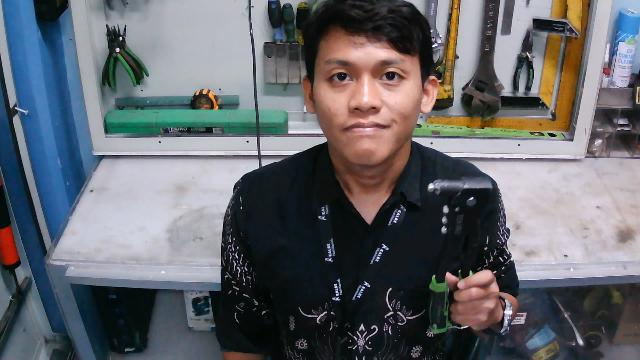tang_rivet: (427, 176, 493, 339)
